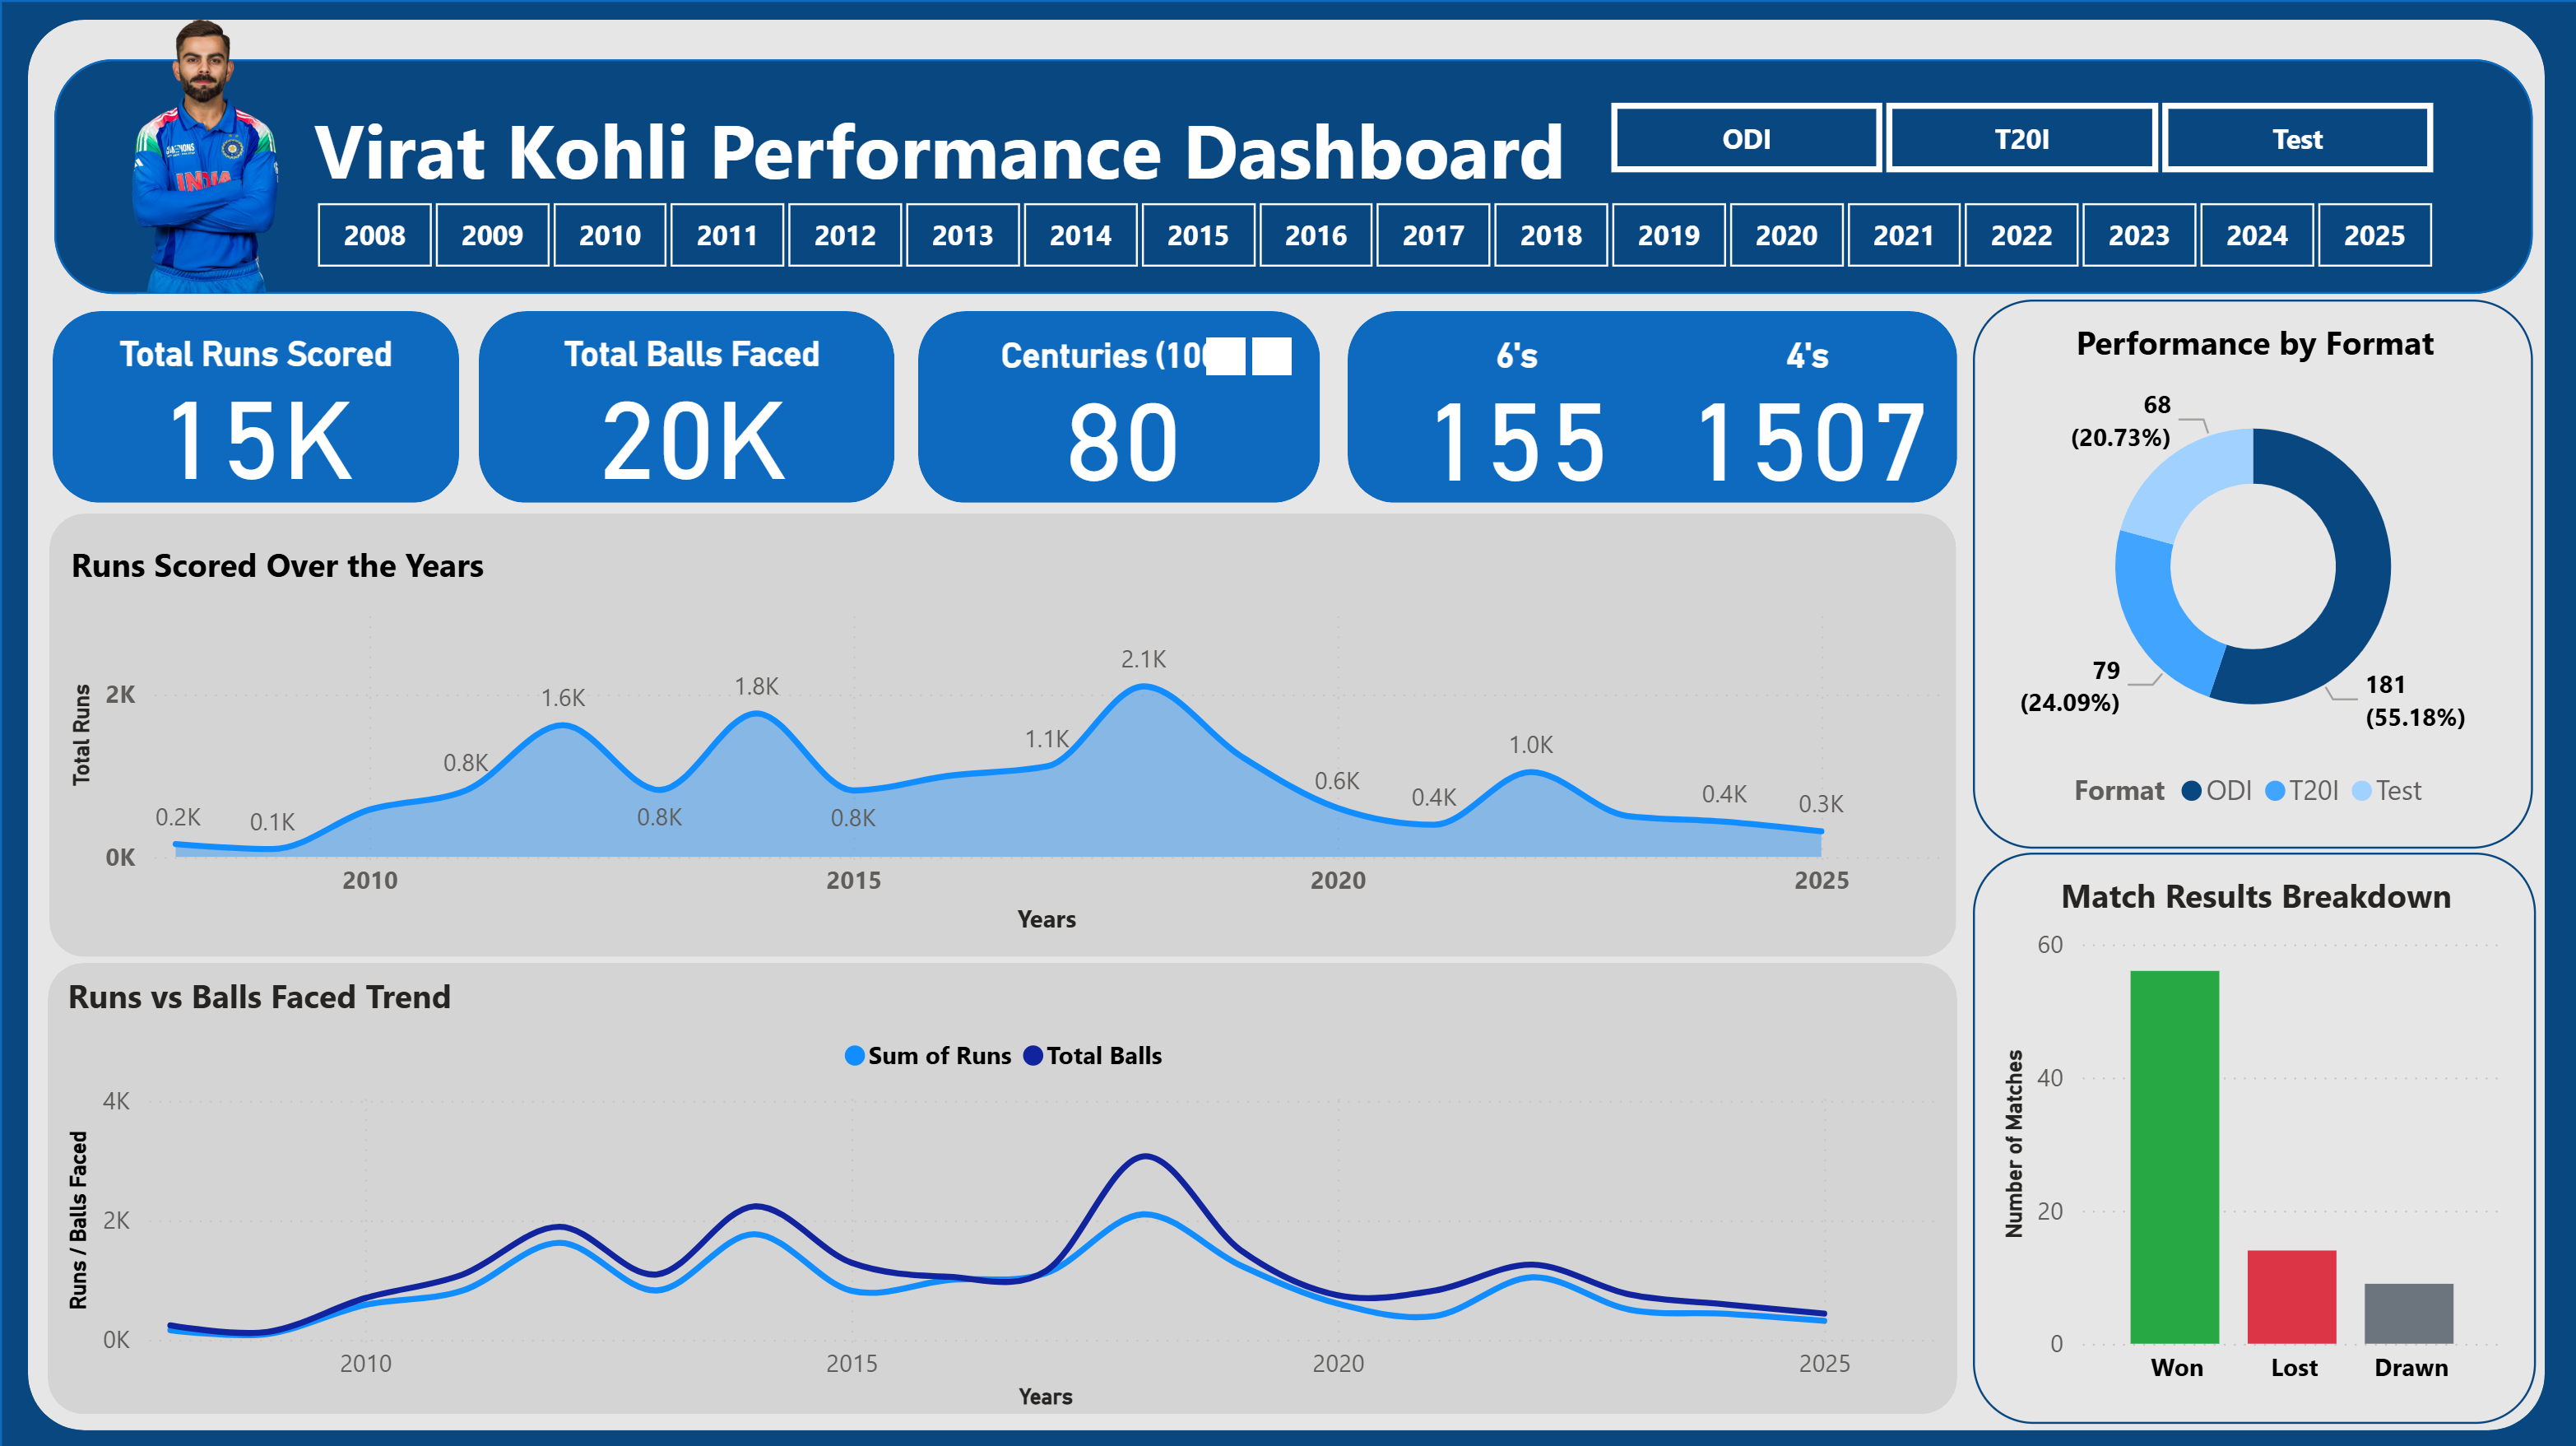

Layout of this report page (visuals, bound fields, positions):
{"tool":"powerbi","page":{"name":"2","canvas":[1280,720],"ordinal":1},"visuals":[{"type":"shape","box":[0,0,1279.7,720.3],"z":0},{"type":"shape","box":[13.9,10.1,1249.4,700],"z":1000},{"type":"shape","box":[26.6,29.1,1230.4,116.5],"z":2000},{"type":"shape","box":[24.7,255.2,946.7,220.1],"z":3000},{"type":"shape","box":[23.4,477.9,948,224],"z":4000},{"type":"textbox","box":[139.2,43,665.8,60.8],"z":5000},{"type":"image","box":[18.6,0,165.2,150.5],"z":6000},{"type":"slicer","fields":{"Values":["Sheet2.Years"]},"box":[139.2,98.7,1087.3,35.4],"z":7000},{"type":"slicer","fields":{"Values":["Sheet2.Format"]},"box":[780.5,49.3,446.2,38.6],"z":8000},{"type":"shape","box":[26.1,154.2,201.8,95.2],"z":9000},{"type":"card","title":"Total Runs Scored","fields":{"Values":["Sheet1.Total Runs"]},"box":[43.1,165.5,167.8,72.6],"z":10000},{"type":"lineChart","title":"Runs Scored Over the Years","fields":{"Category":["Sheet2.Years"],"Y":["Sum(Sheet2.Runs)"]},"box":[30.6,268.7,941,199.5],"z":11000},{"type":"columnChart","title":"Match Results Breakdown","fields":{"Category":["Sheet1.Result"],"Y":["CountNonNull(Sheet1.Result)"]},"box":[979.8,423.4,279.3,283.7],"z":12000},{"type":"lineChart","title":"Runs vs Balls Faced Trend","fields":{"Category":["Sheet2.Years"],"Y":["Sum(Sheet2.Runs)","Sheet1.Total Balls"]},"box":[28.3,483,943.3,221.1],"z":13000},{"type":"donutChart","title":"Performance by Format","fields":{"Category":["Sheet2.Format"],"Y":["CountNonNull(Sheet2.Format)"]},"box":[979.8,148.5,278.2,272.7],"z":14000},{"type":"shape","box":[238.1,154.2,206.3,95.2],"z":15000},{"type":"shape","box":[455.8,154.2,199.5,95.2],"z":16000},{"type":"shape","box":[668.9,154.2,302.7,95.2],"z":17000},{"type":"card","title":"Total Balls Faced","fields":{"Values":["Sheet1.Total Balls"]},"box":[259.6,165.5,167.8,72.6],"z":18000},{"type":"card","title":"Centuries (100s)","fields":{"Values":["CountNonNull(Sheet1.Century)"]},"box":[473.9,166.7,167.8,72.6],"z":19000},{"type":"card","title":"6''s","fields":{"Values":["Sheet1.Total 6s"]},"box":[693.9,166.7,119,72.6],"z":20000},{"type":"card","title":"4''s","fields":{"Values":["Sheet1.Total 4s"]},"box":[835.6,166.7,123.6,72.6],"z":21000}]}

Visuals, with their boxes in screenshot pixels (x1, y1, x2, y2), scaled from the page's 1280x720 canvas onto the 2576x1446 screenshot:
shape: 0:0:2575:1445
shape: 28:21:2542:1426
shape: 53:58:2530:292
shape: 49:513:1955:955
shape: 47:960:1955:1410
textbox: 280:86:1620:208
image: 37:0:370:302
slicer - Sheet2.Years: 280:198:2468:269
slicer - Sheet2.Format: 1571:99:2469:177
shape: 53:309:458:501
"Total Runs Scored" card: 86:332:425:478
"Runs Scored Over the Years" lineChart: 62:540:1956:941
"Match Results Breakdown" columnChart: 1972:850:2534:1420
"Runs vs Balls Faced Trend" lineChart: 57:970:1956:1414
"Performance by Format" donutChart: 1972:298:2532:846
shape: 479:309:894:501
shape: 917:309:1319:501
shape: 1346:309:1956:501
"Total Balls Faced" card: 522:332:860:478
"Centuries (100s)" card: 954:335:1292:481
"6''s" card: 1396:335:1636:481
"4''s" card: 1682:335:1930:481
